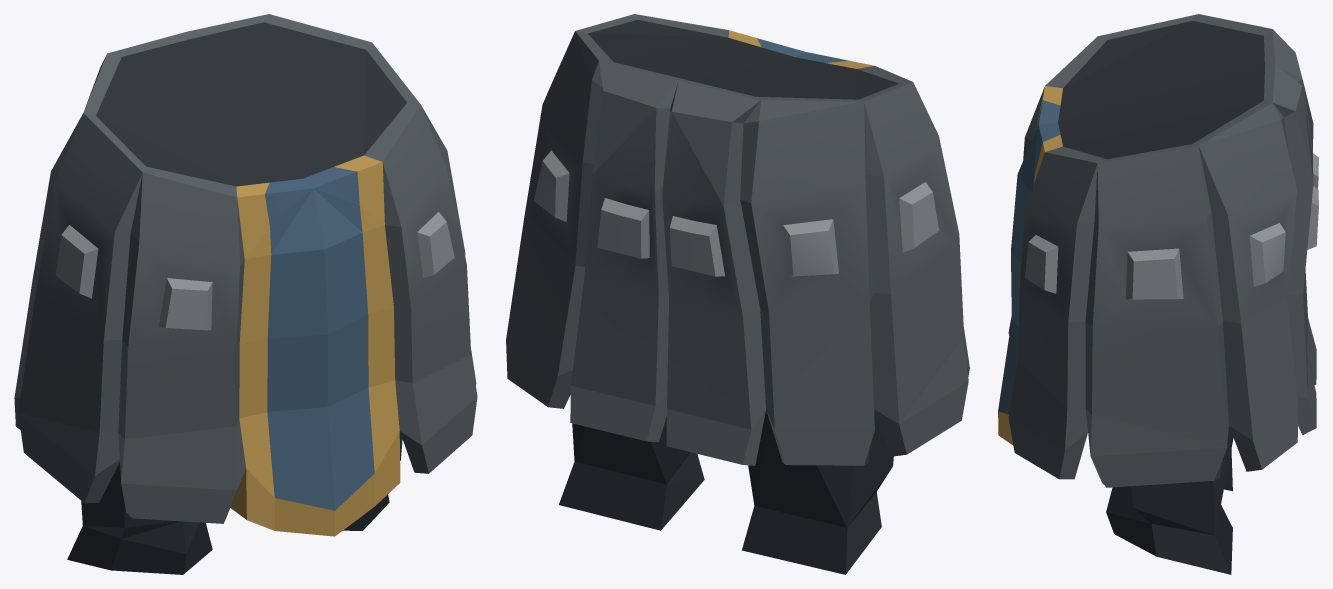
Rendered from Chr_Hips_Male_25_Static.fbx.
3 views of the same model, side by side, from view 1: azimuth 30°, elevation 25°; view 2: azimuth 150°, elevation 25°; view 3: azimuth 270°, elevation 25° (orthographic). The views are drawn at different scales.
Parts seen in each view (by area): view 1: Chr_Hips_Male_25_Static; view 2: Chr_Hips_Male_25_Static; view 3: Chr_Hips_Male_25_Static.
Part boxes in pixels (x1,y1,x2,y2): Chr_Hips_Male_25_Static: (14, 14, 477, 574); Chr_Hips_Male_25_Static: (506, 14, 969, 574); Chr_Hips_Male_25_Static: (998, 14, 1318, 574).
Bounding box in the file's own units: 0.4765 × 0.5545 × 0.3627.
